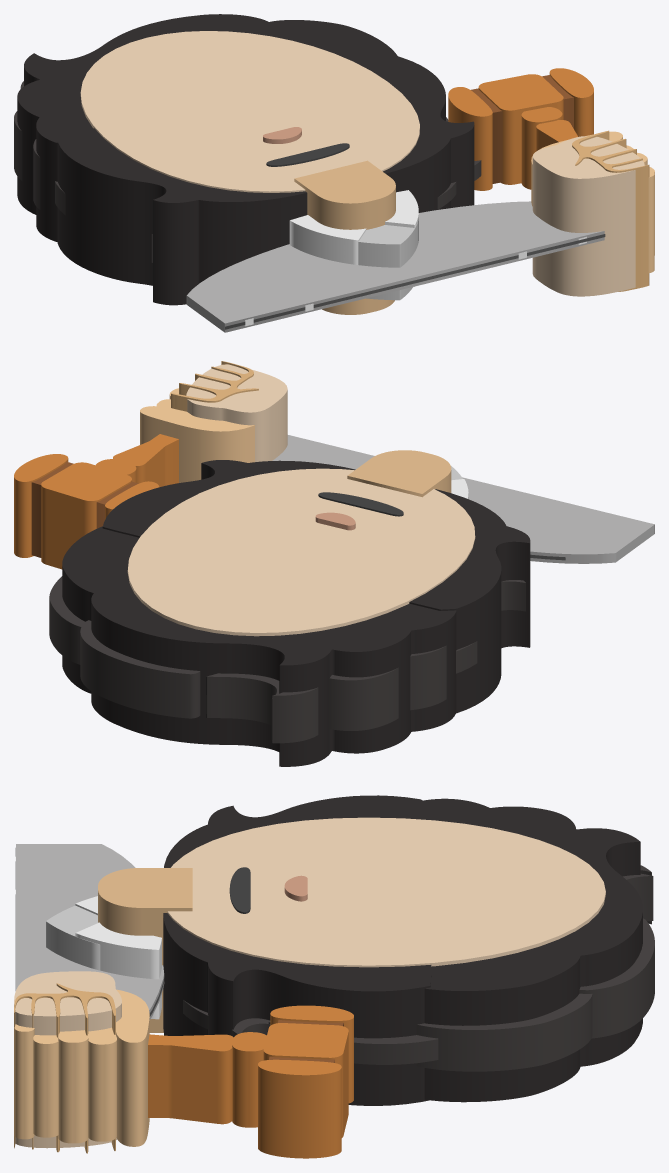
The model's file is emoji_u1f9d1_1f3fb_200d_2696.glb.
3 renders of one model, top to bottom at view 1: azimuth 30°, elevation 25°; view 2: azimuth 150°, elevation 25°; view 3: azimuth 270°, elevation 25°, orthographic. The views are drawn at different scales.
Parts seen in each view (by area): view 1: emoji_u1f9d1_1f3fb_200d_2696; view 2: emoji_u1f9d1_1f3fb_200d_2696; view 3: emoji_u1f9d1_1f3fb_200d_2696.
Part boxes in pixels (x1,y1,x2,y2): emoji_u1f9d1_1f3fb_200d_2696: [14, 14, 654, 332]; emoji_u1f9d1_1f3fb_200d_2696: [14, 361, 654, 766]; emoji_u1f9d1_1f3fb_200d_2696: [14, 795, 654, 1158].
Size of the model in its own units: 0.0331 by 0.0078 by 0.0335.
